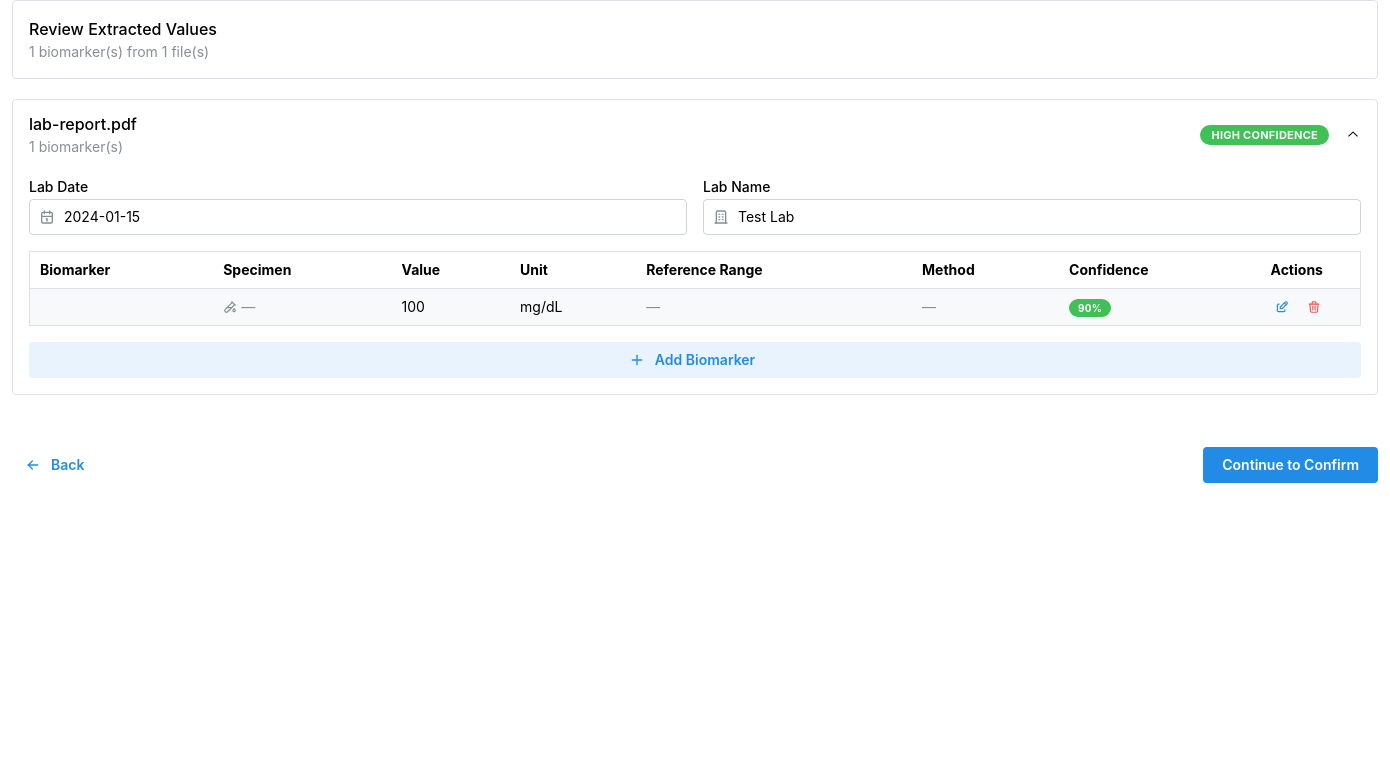
Test: ReviewStep › Validation › shows validation error when biomarker has no name
The image size is (1390, 768).
What coordinates should you click on to do the following:
click the button "Continue to Confirm"
I would click on:
 (1291, 465)
Its box is [1203,447,1378,483].
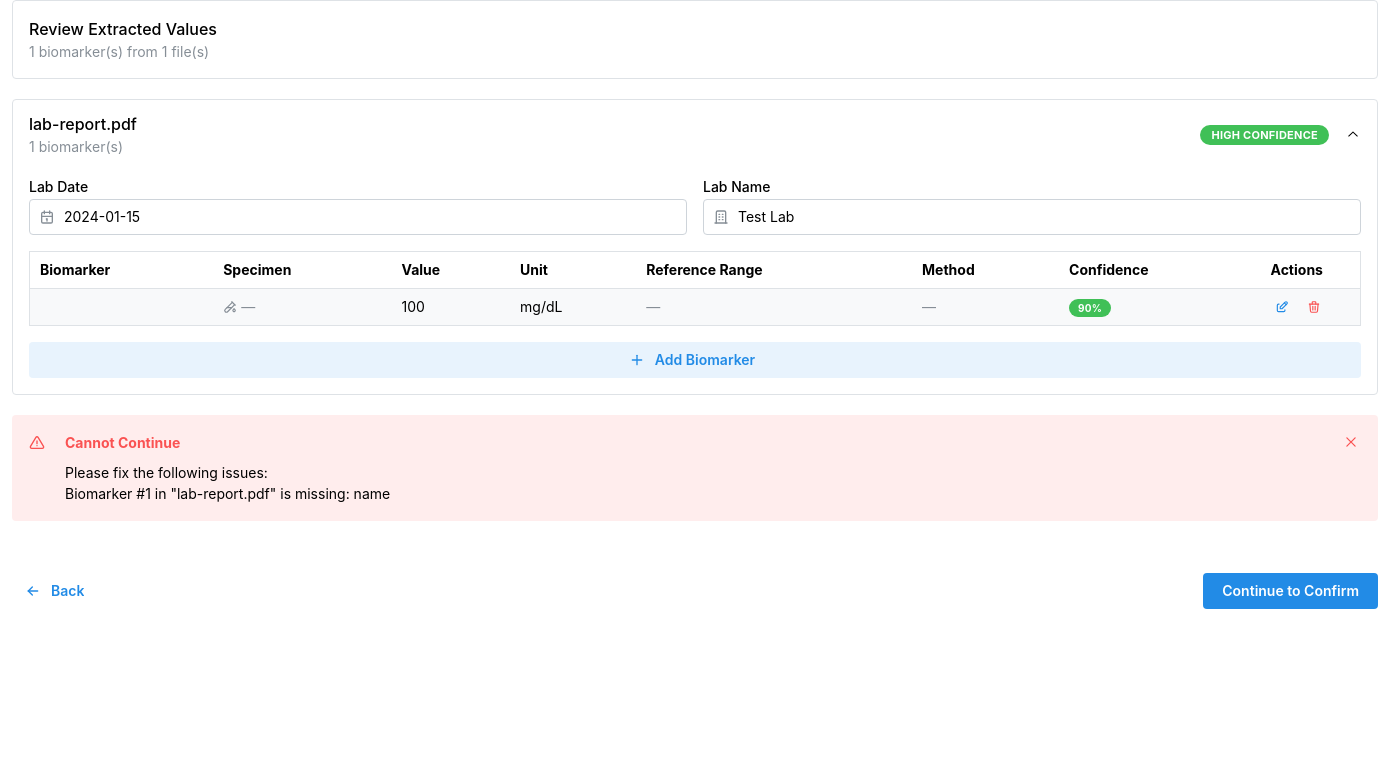
Result: the text "Cannot Continue" is shown at [65,432,180,453]
Result: the text "missing: name" is shown at [65,464,390,502]
